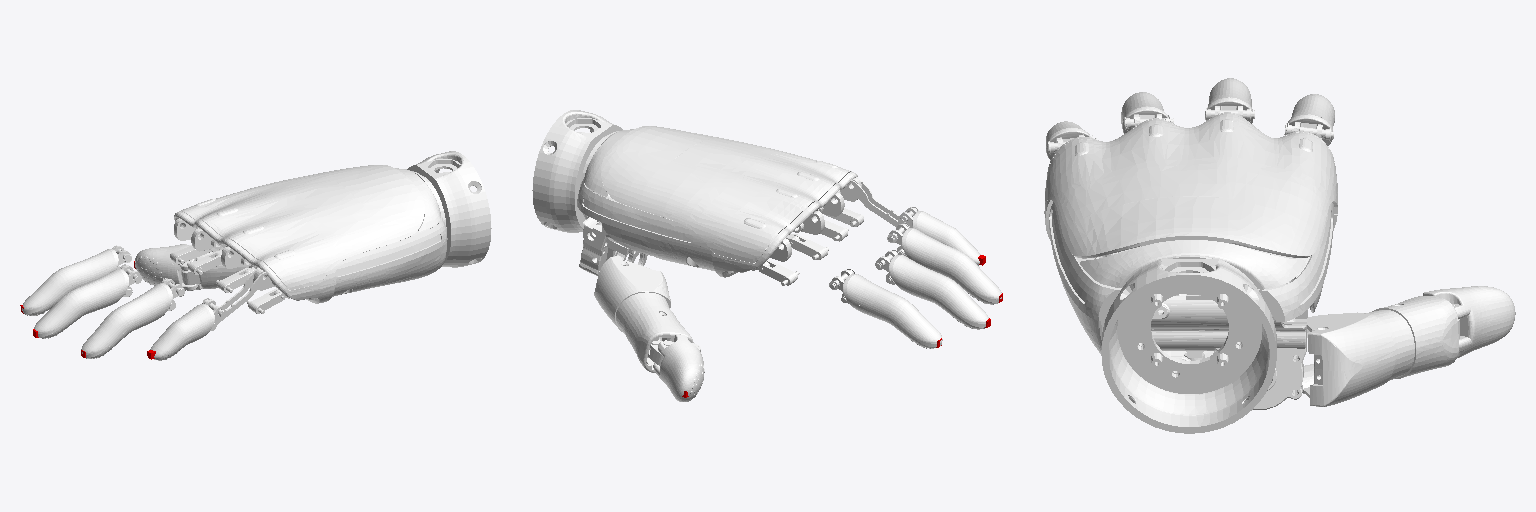
--- Render facts (derived) ---
The picture shows the robot from 3 angles, left to right: view 1: azimuth 30°, elevation 25°; view 2: azimuth 150°, elevation 25°; view 3: azimuth 270°, elevation 25°; orthographic projection.
Robot: rohand_left — 31 links, 30 joints (1 revolute, 19 continuous, 5 prismatic, 5 fixed); root link base_link; default pose: all joints at 0.
Links seen in each view (by area): view 1: base_link, mf_distal_link, rf_distal_link, if_distal_link, lf_distal_link, th_distal_link, th_proximal_link, lf_connecting_link; view 2: base_link, th_proximal_link, mf_distal_link, if_distal_link, rf_distal_link, th_distal_link, lf_distal_link, lf_connecting_link, mf_slider_abpart_link, if_slider_abpart_link; view 3: base_link, th_proximal_link, th_distal_link, if_distal_link, mf_distal_link, rf_distal_link, lf_distal_link.
Boxes of the visible links, x1,y1,x2,y2 form: base_link: (174, 151, 491, 303); mf_distal_link: (34, 264, 141, 338); rf_distal_link: (81, 278, 184, 358); if_distal_link: (22, 245, 131, 315); lf_distal_link: (150, 298, 226, 360); th_distal_link: (135, 244, 201, 290); th_proximal_link: (181, 252, 245, 288); lf_connecting_link: (214, 268, 268, 324); base_link: (532, 110, 861, 277); th_proximal_link: (594, 256, 693, 372); mf_distal_link: (875, 250, 988, 329); if_distal_link: (829, 269, 942, 348); rf_distal_link: (887, 222, 1001, 304); th_distal_link: (653, 334, 704, 401); lf_distal_link: (898, 207, 980, 265); lf_connecting_link: (846, 177, 900, 227); mf_slider_abpart_link: (786, 234, 828, 259); if_slider_abpart_link: (752, 260, 799, 285); base_link: (1044, 112, 1337, 433); th_proximal_link: (1302, 296, 1458, 406); th_distal_link: (1423, 286, 1515, 357); if_distal_link: (1284, 94, 1334, 145); mf_distal_link: (1205, 78, 1254, 123); rf_distal_link: (1121, 92, 1173, 133); lf_distal_link: (1046, 121, 1096, 160).
Bounding box of the posed robot: 0.2043 × 0.1314 × 0.0696 m (x, y, z).
Meshes: 26 distinct files referenced, 14 mesh visuals loaded (14 binary STL); not drawn: 12 (reference not matched to a file when rendering).

robot.urdf — rohand_left:
<?xml version="1.0" encoding="utf-8"?>
<!-- This URDF was automatically created by SolidWorks to URDF Exporter! Originally created by Stephen Brawner ([email redacted]) 
     Commit Version: 1.6.0-4-g7f85cfe  Build Version: 1.6.7995.38578
     For more information, please see http://wiki.ros.org/sw_urdf_exporter -->
<robot
  name="rohand_left">
  <link
    name="base_link">
    <inertial>
      <origin
        xyz="-0.0600175992226992 0.00173674758946424 0.003647460158999"
        rpy="0 0 0" />
      <mass
        value="0.0559618850523164" />
      <inertia
        ixx="2.50232879484508E-05"
        ixy="1.21179219483759E-06"
        ixz="1.3120954628882E-06"
        iyy="3.35110967631875E-05"
        iyz="4.46372025543979E-07"
        izz="5.16602242361882E-05" />
    </inertial>
    <visual>
      <origin
        xyz="0 0 0"
        rpy="0 0 0" />
      <geometry>
        <mesh
          filename="meshes_l/base_link.STL" />
      </geometry>
      <material
        name="">
        <color
          rgba="1 1 1 1" />
      </material>
    </visual>
    <collision>
      <origin
        xyz="0 0 0"
        rpy="0 0 0" />
      <geometry>
        <mesh
          filename="meshes_l/base_link.STL" />
      </geometry>
    </collision>
  </link>
  <link
    name="if_slider_link">
    <inertial>
      <origin
        xyz="-0.013831882124786 0.00115456036788866 1.1863450844439E-06"
        rpy="0 0 0" />
      <mass
        value="0.00048911221771827" />
      <inertia
        ixx="4.60387241005875E-09"
        ixy="2.8127898863501E-09"
        ixz="-3.18026655344593E-12"
        iyy="3.82302567697763E-08"
        iyz="7.17688117200499E-11"
        izz="3.92692763677803E-08" />
    </inertial>
    <visual>
      <origin
        xyz="0 0 0"
        rpy="0 0 0" />
      <geometry>
        <mesh
          filename="meshes_l/if_slider_link.STL" />
      </geometry>
      <material
        name="">
        <color
          rgba="1 1 1 1" />
      </material>
    </visual>
    <collision>
      <origin
        xyz="0 0 0"
        rpy="0 0 0" />
      <geometry>
        <mesh
          filename="meshes_l/if_slider_link.STL" />
      </geometry>
    </collision>
  </link>
  <joint
    name="if_slider_link"
    type="prismatic">
    <origin
      xyz="-0.074396 0.026655 -0.0059032"
      rpy="0 0 0" />
    <parent
      link="base_link" />
    <child
      link="if_slider_link" />
    <axis
      xyz="0.99655 -0.083049 0" />
    <limit
      lower="0"
      upper="0.019"
      effort="0"
      velocity="0" />
  </joint>
  <link
    name="if_slider_abpart_link">
    <inertial>
      <origin
        xyz="-0.0107864188255613 -0.00263940611058044 -0.00013913226482987"
        rpy="0 0 0" />
      <mass
        value="0.000419595822746572" />
      <inertia
        ixx="1.75917796784222E-09"
        ixy="2.74325143413962E-10"
        ixz="-6.61499697224064E-10"
        iyy="5.7335166061789E-09"
        iyz="9.56844870518539E-11"
        izz="6.20984539277726E-09" />
    </inertial>
    <visual>
      <origin
        xyz="0 0 0"
        rpy="0 0 0" />
      <geometry>
        <mesh
          filename="meshes_l/if_slider_abpart_link.STL" />
      </geometry>
      <material
        name="">
        <color
          rgba="1 1 1 1" />
      </material>
    </visual>
    <collision>
      <origin
        xyz="0 0 0"
        rpy="0 0 0" />
      <geometry>
        <mesh
          filename="meshes_l/if_slider_abpart_link.STL" />
      </geometry>
    </collision>
  </link>
  <joint
    name="if_slider_abpart_link"
    type="continuous">
    <origin
      xyz="-0.02861 0.0058839 -0.00030477"
      rpy="0 0 0" />
    <parent
      link="if_slider_link" />
    <child
      link="if_slider_abpart_link" />
    <axis
      xyz="0.082734 0.99276 -0.087135" />
  </joint>
  <link
    name="if_proximal_link">
    <inertial>
      <origin
        xyz="-0.0180401934810981 -0.00594318681409531 -0.00214940799795962"
        rpy="0 0 0" />
      <mass
        value="0.00154987032874225" />
      <inertia
        ixx="6.20379278686707E-08"
        ixy="7.89401144100231E-09"
        ixz="2.15078751193785E-09"
        iyy="1.54247144894286E-07"
        iyz="1.11019132631612E-09"
        izz="1.69493178080606E-07" />
    </inertial>
    <visual>
      <origin
        xyz="0 0 0"
        rpy="0 0 0" />
      <geometry>
        <mesh
          filename="meshes_l/if_proximal_link.STL" />
      </geometry>
      <material
        name="">
        <color
          rgba="1 1 1 1" />
      </material>
    </visual>
    <collision>
      <origin
        xyz="0 0 0"
        rpy="0 0 0" />
      <geometry>
        <mesh
          filename="meshes_l/if_proximal_link.STL" />
      </geometry>
    </collision>
  </link>
  <joint
    name="if_proximal_link"
    type="continuous">
    <origin
      xyz="-0.11211 0.037738 0.0020371"
      rpy="0 0 0" />
    <parent
      link="base_link" />
    <child
      link="if_proximal_link" />
    <axis
      xyz="0.082428 0.99278 -0.087177" />
    <mimic joint="if_slider_link" multiplier="-75.052450" offset="-0.055446" />
  </joint>
  <link
    name="if_distal_link">
    <inertial>
      <origin
        xyz="-0.0242417824734568 -0.00576634331785811 -0.00601095840966076"
        rpy="0 0 0" />
      <mass
        value="0.0042269383122795" />
      <inertia
        ixx="9.82682026496381E-08"
        ixy="2.86098057670537E-08"
        ixz="-1.10777302806872E-07"
        iyy="5.59160651416525E-07"
        iyz="7.3813015969809E-09"
        izz="5.40423175644971E-07" />
    </inertial>
    <visual>
      <origin
        xyz="0 0 0"
        rpy="0 0 0" />
      <geometry>
        <mesh
          filename="meshes_l/if_distal_link.STL" />
      </geometry>
      <material
        name="">
        <color
          rgba="1 1 1 1" />
      </material>
    </visual>
    <collision>
      <origin
        xyz="0 0 0"
        rpy="0 0 0" />
      <geometry>
        <mesh
          filename="meshes_l/if_distal_link.STL" />
      </geometry>
    </collision>
  </link>
  <joint
    name="if_distal_link"
    type="continuous">
    <origin
      xyz="-0.035776 0.0028401 -0.0014841"
      rpy="0 0 0" />
    <parent
      link="if_proximal_link" />
    <child
      link="if_distal_link" />
    <axis
      xyz="0.082428 0.99278 -0.087177" />
    <mimic joint="if_proximal_link" multiplier="1.138285" offset="-0.034824" />
  </joint>
  <link name="if_tip_link">
    <inertial>
      <mass value="0.001" />
      <inertia ixx="1e-6" ixy="0" ixz="0" iyy="1e-6" iyz="0" izz="1e-6" />
    </inertial>
    <visual>
      <geometry>
        <box size="0.003 0.003 0.003"/>
      </geometry>
      <material name="tip_color">
        <color rgba="1 0 0 1"/>
      </material>
    </visual>
  </link>
  <joint name="if_tip_joint" type="fixed">
    <parent link="if_distal_link" />
    <child link="if_tip_link" />
    <origin xyz="-0.047 -0.004 -0.013" rpy="0 0 0" />
  </joint>
  <link
    name="if_connecting_link">
    <inertial>
      <origin
        xyz="-0.0154529830298678 -0.00300880066164064 -0.00700719055867323"
        rpy="0 0 0" />
      <mass
        value="0.000197692348310411" />
      <inertia
        ixx="4.07223389206408E-09"
        ixy="1.11280581546581E-09"
        ixz="-9.07369152604057E-09"
        iyy="2.70145409777339E-08"
        iyz="4.0263808141139E-10"
        izz="2.30774689922599E-08" />
    </inertial>
    <visual>
      <origin
        xyz="0 0 0"
        rpy="0 0 0" />
      <geometry>
        <mesh
          filename="meshes_l/if_connecting_link.STL" />
      </geometry>
      <material
        name="">
        <color
          rgba="1 1 1 1" />
      </material>
    </visual>
    <collision>
      <origin
        xyz="0 0 0"
        rpy="0 0 0" />
      <geometry>
        <mesh
          filename="meshes_l/if_connecting_link.STL" />
      </geometry>
    </collision>
  </link>
  <joint
    name="if_connecting_link"
    type="continuous">
    <origin
      xyz="-0.11976 0.03521 0.0067299"
      rpy="0 0 0" />
    <parent
      link="base_link" />
    <child
      link="if_connecting_link" />
    <axis
      xyz="0.082428 0.99278 -0.087177" />
  </joint>
  <link
    name="mf_slider_link">
    <inertial>
      <origin
        xyz="-0.013878747077534 0.000185328089726128 8.622740372069E-08"
        rpy="0 0 0" />
      <mass
        value="0.000489112305392741" />
      <inertia
        ixx="4.3759626088488E-09"
        ixy="4.42668858430006E-10"
        ixz="-1.30309167879349E-11"
        iyy="3.84519195282787E-08"
        iyz="4.98468697390903E-13"
        izz="3.92755372638914E-08" />
    </inertial>
    <visual>
      <origin
        xyz="0 0 0"
        rpy="0 0 0" />
      <geometry>
        <mesh
          filename="meshes_l/mf_slider_link.STL" />
      </geometry>
      <material
        name="">
        <color
          rgba="1 1 1 1" />
      </material>
    </visual>
    <collision>
      <origin
        xyz="0 0 0"
        rpy="0 0 0" />
      <geometry>
        <mesh
          filename="meshes_l/mf_slider_link.STL" />
      </geometry>
    </collision>
  </link>
  <joint
    name="mf_slider_link"
    type="prismatic">
    <origin
      xyz="-0.076974 0.010077 -0.0016353"
      rpy="0 0 0" />
    <parent
      link="base_link" />
    <child
      link="mf_slider_link" />
    <axis
      xyz="0.99991 -0.013228 0.00010039" />
    <limit
      lower="0"
      upper="0.019"
      effort="0"
      velocity="0" />
  </joint>
  <link
    name="mf_slider_abpart_link">
    <inertial>
      <origin
        xyz="-0.0105596379857566 -0.00336124088471218 -0.000727211243021133"
        rpy="0 0 0" />
      <mass
        value="0.000419595848489683" />
      <inertia
        ixx="1.78090578752483E-09"
        ixy="5.23866893151899E-11"
        ixz="-7.88313295390851E-10"
        iyy="5.74728451250454E-09"
        iyz="1.04756066269533E-11"
        izz="6.17435090190752E-09" />
    </inertial>
    <visual>
      <origin
        xyz="0 0 0"
        rpy="0 0 0" />
      <geometry>
        <mesh
          filename="meshes_l/mf_slider_abpart_link.STL" />
      </geometry>
      <material
        name="">
        <color
          rgba="1 1 1 1" />
      </material>
    </visual>
    <collision>
      <origin
        xyz="0 0 0"
        rpy="0 0 0" />
      <geometry>
        <mesh
          filename="meshes_l/mf_slider_abpart_link.STL" />
      </geometry>
    </collision>
  </link>
  <joint
    name="mf_slider_abpart_link"
    type="continuous">
    <origin
      xyz="-0.028951 0.0038841 0"
      rpy="0 0 0" />
    <parent
      link="mf_slider_link" />
    <child
      link="mf_slider_abpart_link" />
    <axis
      xyz="0.013228 0.99991 -7.2594E-05" />
  </joint>
  <link
    name="mf_proximal_link">
    <inertial>
      <origin
        xyz="-0.0199797334891479 -0.00693582390555644 -0.00446806914321724"
        rpy="0 0 0" />
      <mass
        value="0.00189508780970619" />
      <inertia
        ixx="7.7805923733235E-08"
        ixy="2.0676177672704E-09"
        ixz="-1.00300119994739E-08"
        iyy="2.3404709814833E-07"
        iyz="1.32133235333923E-10"
        izz="2.46206545141109E-07" />
    </inertial>
    <visual>
      <origin
        xyz="0 0 0"
        rpy="0 0 0" />
      <geometry>
        <mesh
          filename="meshes_l/mf_proximal_link.STL" />
      </geometry>
      <material
        name="">
        <color
          rgba="1 1 1 1" />
      </material>
    </visual>
    <collision>
      <origin
        xyz="0 0 0"
        rpy="0 0 0" />
      <geometry>
        <mesh
          filename="meshes_l/mf_proximal_link.STL" />
      </geometry>
    </collision>
  </link>
  <joint
    name="mf_proximal_link"
    type="continuous">
    <origin
      xyz="-0.11587 0.017792 0.0069665"
      rpy="0 0 0" />
    <parent
      link="base_link" />
    <child
      link="mf_proximal_link" />
    <axis
      xyz="0.013244 0.99991 4.2699E-05" />
    <mimic joint="mf_slider_link" multiplier="-74.008909" offset="-0.065644" />
  </joint>
  <link
    name="mf_distal_link">
    <inertial>
      <origin
        xyz="-0.0237385164850207 -0.00688494079178079 -0.00679220850075163"
        rpy="0 0 0" />
      <mass
        value="0.0042269628029676" />
      <inertia
        ixx="9.80058679932351E-08"
        ixy="6.06231538286094E-09"
        ixz="-1.13827652906676E-07"
        iyy="5.60810951030143E-07"
        iyz="1.48885023943624E-09"
        izz="5.39048309363154E-07" />
    </inertial>
    <visual>
      <origin
        xyz="0 0 0"
        rpy="0 0 0" />
      <geometry>
        <mesh
          filename="meshes_l/mf_distal_link.STL" />
      </geometry>
      <material
        name="">
        <color
          rgba="1 1 1 1" />
      </material>
    </visual>
    <collision>
      <origin
        xyz="0 0 0"
        rpy="0 0 0" />
      <geometry>
        <mesh
          filename="meshes_l/mf_distal_link.STL" />
      </geometry>
    </collision>
  </link>
  <joint
    name="mf_distal_link"
    type="continuous">
    <origin
      xyz="-0.040851 0.00054126 -0.0035367"
      rpy="0 0 0" />
    <parent
      link="mf_proximal_link" />
    <child
      link="mf_distal_link" />
    <axis
      xyz="0.013244 0.99991 2.1055E-05" />
    <mimic joint="mf_proximal_link" multiplier="1.139937" offset="-0.033724" />
  </joint>
  <link name="mf_tip_link">
    <inertial>
      <mass value="0.001" />
      <inertia ixx="1e-6" ixy="0" ixz="0" iyy="1e-6" iyz="0" izz="1e-6" />
    </inertial>
    <visual>
      <geometry>
        <box size="0.003 0.003 0.003"/>
      </geometry>
      <material name="tip_color">
        <color rgba="1 0 0 1"/>
      </material>
    </visual>
  </link>
  <joint name="mf_tip_joint" type="fixed">
    <parent link="mf_distal_link" />
    <child link="mf_tip_link" />
    <origin xyz="-0.047 -0.007 -0.014" rpy="0 0 0" />
  </joint>
  <link
    name="mf_connecting_link">
    <inertial>
      <origin
        xyz="-0.0173259476733337 -0.00342060961323612 -0.00839513952079128"
        rpy="0 0 0" />
      <mass
        value="0.000216184518525667" />
      <inertia
        ixx="5.71913358376963E-09"
        ixy="4.34632649617872E-10"
        ixz="-1.31282895880665E-08"
        iyy="3.85063451062604E-08"
        iyz="1.74009446649164E-10"
        izz="3.28217930253539E-08" />
    </inertial>
    <visual>
      <origin
        xyz="0 0 0"
        rpy="0 0 0" />
      <geometry>
        <mesh
          filename="meshes_l/mf_connecting_link.STL" />
      </geometry>
      <material
        name="">
        <color
          rgba="1 1 1 1" />
      </material>
    </visual>
    <collision>
      <origin
        xyz="0 0 0"
        rpy="0 0 0" />
      <geometry>
        <mesh
          filename="meshes_l/mf_connecting_link.STL" />
      </geometry>
    </collision>
  </link>
  <joint
    name="mf_connecting_link"
    type="continuous">
    <origin
      xyz="-0.12334 0.014341 0.011366"
      rpy="0 0 0" />
    <parent
      link="base_link" />
    <child
      link="mf_connecting_link" />
    <axis
      xyz="0.013244 0.99991 2.1054E-05" />
  </joint>
  <link
    name="rf_slider_link">
    <inertial>
      <origin
        xyz="-0.0138578672671499 -0.00078324248832945 1.59405782883433E-07"
        rpy="0 0 0" />
      <mass
        value="0.000489112303078988" />
      <inertia
        ixx="4.48016318899327E-09"
        ixy="-1.93283010934183E-09"
        ixz="-1.28464378602607E-11"
        iyy="3.834771866864E-08"
        iyz="-3.94300598627811E-13"
        izz="3.92755371230416E-08" />
    </inertial>
    <visual>
      <origin
        xyz="0 0 0"
        rpy="0 0 0" />
      <geometry>
        <mesh
          filename="meshes_l/rf_slider_link.STL" />
      </geometry>
      <material
        name="">
        <color
          rgba="1 1 1 1" />
      </material>
    </visual>
    <collision>
      <origin
        xyz="0 0 0"
        rpy="0 0 0" />
      <geometry>
        <mesh
          filename="meshes_l/rf_slider_link.STL" />
      </geometry>
    </collision>
  </link>
  <joint
    name="rf_slider_link"
    type="prismatic">
    <origin
      xyz="-0.074498 -0.0072492 -0.0023801"
      rpy="0 0 0" />
    <parent
      link="base_link" />
    <child
      link="rf_slider_link" />
    <axis
      xyz="0.9984 0.056554 9.5082E-05" />
    <limit
      lower="0"
      upper="0.019"
      effort="0"
      velocity="0" />
  </joint>
  <link
    name="rf_slider_abpart_link">
    <inertial>
      <origin
        xyz="-0.0103066808663681 -0.00409004748705058 -0.000613628353270297"
        rpy="0 0 0" />
      <mass
        value="0.000419595841745906" />
      <inertia
        ixx="1.77645736028942E-09"
        ixy="-2.25058409313133E-10"
        ixz="-7.39578165961404E-10"
        iyy="5.73522260886412E-09"
        iyz="-4.18409260159825E-11"
        izz="6.19086108929486E-09" />
    </inertial>
    <visual>
      <origin
        xyz="0 0 0"
        rpy="0 0 0" />
      <geometry>
        <mesh
          filename="meshes_l/rf_slider_abpart_link.STL" />
      </geometry>
      <material
        name="">
        <color
          rgba="1 1 1 1" />
      </material>
    </visual>
    <collision>
      <origin
        xyz="0 0 0"
        rpy="0 0 0" />
      <geometry>
        <mesh
          filename="meshes_l/rf_slider_abpart_link.STL" />
      </geometry>
    </collision>
  </link>
  <joint
    name="rf_slider_abpart_link"
    type="continuous">
    <origin
      xyz="-0.029152 0.0018551 0"
      rpy="0 0 0" />
    <parent
      link="rf_slider_link" />
    <child
      link="rf_slider_abpart_link" />
    <axis
      xyz="-0.056554 0.9984 -7.942E-05" />
  </joint>
  <link
    name="rf_proximal_link">
    <inertial>
      <origin
        xyz="-0.0169549089835899 -0.00817221852533054 -0.00333737800773532"
        rpy="0 0 0" />
      <mass
        value="0.00154985371268108" />
      <inertia
        ixx="6.16430441306532E-08"
        ixy="-5.27625854931828E-09"
        ixz="-1.35085566211527E-09"
        iyy="1.54505752798055E-07"
        iyz="-7.80848576926748E-11"
        izz="1.69627005510225E-07" />
    </inertial>
    <visual>
      <origin
        xyz="0 0 0"
        rpy="0 0 0" />
      <geometry>
        <mesh
          filename="meshes_l/rf_proximal_link.STL" />
      </geometry>
      <material
        name="">
        <color
          rgba="1 1 1 1" />
      </material>
    </visual>
    <collision>
      <origin
        xyz="0 0 0"
        rpy="0 0 0" />
      <geometry>
        <mesh
          filename="meshes_l/rf_proximal_link.STL" />
      </geometry>
    </collision>
  </link>
  <joint
    name="rf_proximal_link"
    type="continuous">
    <origin
      xyz="-0.11364 -0.0022565 0.0062163"
      rpy="0 0 0" />
    <parent
      link="base_link" />
    <child
      link="rf_proximal_link" />
    <axis
      xyz="-0.05658 0.9984 2.102E-05" />
    <mimic joint="rf_slider_link" multiplier="-74.604806" offset="-0.051526" />
  </joint>
  <link
    name="rf_distal_link">
    <inertial>
      <origin
        xyz="-0.022696111452442 -0.00849649226724736 -0.00835478756750876"
        rpy="0 0 0" />
      <mass
        value="0.00422730983553646" />
      <inertia
        ixx="1.16496262714894E-07"
        ixy="-2.5261364839183E-08"
        ixz="-1.41993969994743E-07"
        iyy="5.59567957009536E-07"
        iyz="-8.07053877471632E-09"
        izz="5.22034079641838E-07" />
    </inertial>
    <visual>
      <origin
        xyz="0 0 0"
        rpy="0 0 0" />
      <geometry>
        <mesh
          filename="meshes_l/rf_distal_link.STL" />
      </geometry>
      <material
        name="">
        <color
          rgba="1 1 1 1" />
      </material>
    </visual>
    <collision>
      <origin
        xyz="0 0 0"
        rpy="0 0 0" />
      <geometry>
        <mesh
          filename="meshes_l/rf_distal_link.STL" />
      </geometry>
    </collision>
  </link>
  <joint
    name="rf_distal_link"
    type="continuous">
    <origin
      xyz="-0.035766 -0.0020268 -0.0026198"
      rpy="0 0 0" />
    <parent
      link="rf_proximal_link" />
    <child
      link="rf_distal_link" />
    <axis
      xyz="-0.05658 0.9984 2.102E-05" />
    <mimic joint="rf_proximal_link" multiplier="1.134612" offset="-0.033167" />
  </joint>
  <link name="rf_tip_link">
    <inertial>
      <mass value="0.001" />
      <inertia ixx="1e-6" ixy="0" ixz="0" iyy="1e-6" iyz="0" izz="1e-6" />
    </inertial>
    <visual>
      <geometry>
        <box size="0.003 0.003 0.003"/>
      </geometry>
      <material name="tip_color">
        <color rgba="1 0 0 1"/>
      </material>
    </visual>
  </link>
  <joint name="rf_tip_joint" type="fixed">
    <parent link="rf_distal_link" />
    <child link="rf_tip_link" />
    <origin xyz="-0.045 -0.01 -0.017" rpy="0 0 0" />
  </joint>
  <link
    name="rf_connecting_link">
    <inertial>
      <origin
        xyz="-0.0182151281756033 0.0164706758619828 -0.00574282817068492"
        rpy="0 0 0" />
      <mass
        value="0.000197692354337264" />
      <inertia
        ixx="4.92838052690555E-09"
        ixy="-1.25465921189233E-09"
        ixz="-9.87171474508207E-09"
        iyy="2.70004879799029E-08"
        iyz="-5.59333811535522E-10"
        izz="2.22353755729308E-08" />
    </inertial>
    <visual>
      <origin
        xyz="0 0 0"
        rpy="0 0 0" />
      <geometry>
        <mesh
          filename="meshes_l/rf_connecting_link.STL" />
      </geometry>
      <material
        name="">
        <color
          rgba="1 1 1 1" />
      </material>
    </visual>
    <collision>
      <origin
        xyz="0 0 0"
        rpy="0 0 0" />
      <geometry>
        <mesh
          filename="meshes_l/rf_connecting_link.STL" />
      </geometry>
    </collision>
  </link>
  <joint
    name="rf_connecting_link"
    type="continuous">
    <origin
      xyz="-0.11723 -0.027174 0.008365"
      rpy="0 0 0" />
    <parent
      link="base_link" />
    <child
      link="rf_connecting_link" />
    <axis
      xyz="-0.05658 0.9984 2.102E-05" />
  </joint>
  <link
    name="lf_slider_link">
    <inertial>
      <origin
        xyz="-0.0144167564876969 -0.00171205925869156 3.81352530457336E-07"
        rpy="0 0 0" />
      <mass
        value="0.000510662528391611" />
      <inertia
        ixx="4.9365491500063E-09"
        ixy="-3.99382130462206E-09"
        ixz="-3.82896929119076E-12"
        iyy="3.79994364556094E-08"
        iyz="-7.87026435487919E-11"
        izz="3.93595008041777E-08" />
    </inertial>
    <visual>
      <origin
        xyz="0 0 0"
        rpy="0 0 0" />
      <geometry>
        <mesh
          filename="meshes_l/lf_slider_link.STL" />
      </geometry>
      <material
        name="">
        <color
          rgba="1 1 1 1" />
      </material>
    </visual>
    <collision>
      <origin
        xyz="0 0 0"
        rpy="0 0 0" />
      <geometry>
        <mesh
          filename="meshes_l/lf_slider_link.STL" />
      </geometry>
    </collision>
  </link>
  <joint
    name="lf_slider_link"
    type="prismatic">
    <origin
      xyz="-0.070847 -0.024182 -0.0048997"
      rpy="0 0 0" />
    <parent
      link="base_link" />
    <child
      link="lf_slider_link" />
    <axis
      xyz="0.99301 0.11803 8.2704E-05" />
    <limit
      lower="0"
      upper="0.019"
      effort="0"
      velocity="0" />
  </joint>
  <link
    name="lf_slider_abpart_link">
    <inertial>
      <origin
        xyz="-0.0100358483607181 -0.00463982379624511 -0.00104236140669513"
        rpy="0 0 0" />
      <mass
        value="0.000419595826532552" />
      <inertia
        ixx="1.82121196852816E-09"
        ixy="-3.9802967870408E-10"
        ixz="-7.80769700533061E-10"
        iyy="5.71210051864852E-09"
        iyz="-1.29906442115816E-10"
        izz="6.16922773505282E-09" />
    </inertial>
    <visual>
      <origin
        xyz="0 0 0"
        rpy="0 0 0" />
      <geometry>
        <mesh
          filename="meshes_l/lf_slider_abpart_link.STL" />
      </geometry>
      <material
        name="">
        <color
          rgba="1 1 1 1" />
      </material>
    </visual>
    <collision>
      <origin
        xyz="0 0 0"
        rpy="0 0 0" />
      <geometry>
        <mesh
          filename="meshes_l/lf_slider_abpart_link.STL" />
      </geometry>
    </collision>
  </link>
  <joint
    name="lf_slider_abpart_link"
    type="continuous">
    <origin
      xyz="-0.029209 4.0116E-05 0.00030326"
      rpy="0 0 0" />
    <parent
      link="lf_slider_link" />
    <child
      link="lf_slider_abpart_link" />
    <axis
      xyz="-0.11759 0.98923 0.08715" />
  </joint>
  <link
    name="lf_proximal_link">
    <inertial>
      <origin
        xyz="-0.0146179038371213 -0.00865933449081624 -0.00404765240562847"
        rpy="0 0 0" />
      <mass
        value="0.00136661208486985" />
      <inertia
        ixx="5.65517835433433E-08"
        ixy="-6.43465965682621E-09"
        ixz="-2.86652645878912E-09"
        iyy="1.12186752570062E-07"
        iyz="-1.61029658148309E-09"
        izz="1.27246247373284E-07" />
    </inertial>
    <visual>
      <origin
        xyz="0 0 0"
        rpy="0 0 0" />
      <geometry>
        <mesh
          filename="meshes_l/lf_proximal_link.STL" />
      </geometry>
      <material
        name="">
        <color
          rgba="1 1 1 1" />
      </material>
    </visual>
    <collision>
      <origin
        xyz="0 0 0"
        rpy="0 0 0" />
      <geometry>
        <mesh
          filename="meshes_l/lf_proximal_link.STL" />
      </geometry>
    </collision>
  </link>
  <joint
    name="lf_proximal_link"
    type="continuous">
    <origin
      xyz="-0.11032 -0.022406 0.0042916"
      rpy="0 0 0" />
    <parent
      link="base_link" />
    <child
      link="lf_proximal_link" />
    <axis
      xyz="-0.11759 0.98923 0.087106" />
    <mimic joint="lf_slider_link" multiplier="-74.278679" offset="-0.049528" />
  </joint>
  <link
    name="lf_distal_link">
    <inertial>
      <origin
        xyz="-0.014370796499536 -0.008390245956126 -0.00657795990320131"
        rpy="0 0 0" />
      <mass
        value="0.00262042947413116" />
      <inertia
        ixx="5.14865241597797E-08"
        ixy="-8.72354900376063E-09"
        ixz="-3.78475585620367E-08"
        iyy="1.52166371803539E-07"
        iyz="-3.91942047531457E-09"
        izz="1.45327848752015E-07" />
    </inertial>
    <visual>
      <origin
        xyz="0 0 0"
        rpy="0 0 0" />
      <geometry>
        <mesh
          filename="meshes_l/lf_distal_link.STL" />
      </geometry>
      <material
        name="">
        <color
          rgba="1 1 1 1" />
      </material>
    </visual>
    <collision>
      <origin
        xyz="0 0 0"
        rpy="0 0 0" />
      <geometry>
        <mesh
          filename="meshes_l/lf_distal_link.STL" />
      </geometry>
    </collision>
  </link>
  <joint
    name="lf_distal_link"
    type="continuous">
    <origin
      xyz="-0.031562 -0.0034532 -0.003392"
      rpy="0 0 0" />
    <parent
      link="lf_proximal_link" />
    <child
      link="lf_distal_link" />
    <axis
      xyz="-0.11759 0.98923 0.087106" />
    <mimic joint="lf_proximal_link" multiplier="1.152366" offset="-0.067444" />
  </joint>
  <link name="lf_tip_link">
    <inertial>
      <mass value="0.001" />
      <inertia ixx="1e-6" ixy="0" ixz="0" iyy="1e-6" iyz="0" izz="1e-6" />
    </inertial>
    <visual>
      <geometry>
        <box size="0.003 0.003 0.003"/>
      </geometry>
      <material name="tip_color">
        <color rgba="1 0 0 1"/>
      </material>
    </visual>
  </link>
  <joint name="lf_tip_joint" type="fixed">
    <parent link="lf_distal_link" />
    <child link="lf_tip_link" />
    <origin xyz="-0.032 -0.01 -0.012" rpy="0 0 0" />
  </joint>
  <link
    name="lf_connecting_link">
    <inertial>
      <origin
        xyz="-0.0121624488477445 -0.00439577388851597 -0.00839995412997622"
        rpy="0 0 0" />
      <mass
        value="0.000176980932045691" />
      <inertia
        ixx="4.93706927346499E-09"
        ixy="-1.08018597686527E-09"
        ixz="-8.19110691260071E-09"
        iyy="2.00115768299624E-08"
        iyz="-5.47674876971474E-10"
        izz="1.52537402638674E-08" />
    </inertial>
    <visual>
      <origin
        xyz="0 0 0"
        rpy="0 0 0" />
      <geometry>
        <mesh
          filename="meshes_l/lf_connecting_link.STL" />
      </geometry>
      <material
        name="">
        <color
          rgba="1 1 1 1" />
      </material>
    </visual>
    <collision>
      <origin
        xyz="0 0 0"
        rpy="0 0 0" />
      <geometry>
        <mesh
          filename="meshes_l/lf_connecting_link.STL" />
      </geometry>
    </collision>
  </link>
  <joint
    name="lf_connecting_link"
    type="continuous">
    <origin
      xyz="-0.11723 -0.027174 0.008365"
      rpy="0 0 0" />
    <parent
      link="base_link" />
    <child
      link="lf_connecting_link" />
    <axis
      xyz="-0.11759 0.98924 0.087085" />
  </joint>
  <link
    name="th_root_link">
    <inertial>
      <origin
        xyz="-0.0182055985206398 0.00620277969837987 -0.00602504691008154"
        rpy="0 0 0" />
      <mass
        value="0.00217782401907458" />
      <inertia
        ixx="1.92048266024776E-07"
        ixy="8.02008085705929E-08"
        ixz="-1.58292817167637E-08"
        iyy="1.97385210109919E-07"
        iyz="2.8437183719772E-08"
        izz="2.25369870005598E-07" />
    </inertial>
    <visual>
      <origin
        xyz="0 0 0"
        rpy="0 0 0" />
      <geometry>
        <mesh
          filename="meshes_l/th_root_link.STL" />
      </geometry>
      <material
        name="">
        <color
          rgba="1 1 1 1" />
      </material>
    </visual>
    <collision>
      <origin
        xyz="0 0 0"
        rpy="0 0 0" />
      <geometry>
        <mesh
          filename="meshes_l/th_root_link.STL" />
      </geometry>
    </collision>
  </link>
  <joint
    name="th_root_link"
    type="revolute">
    <origin
      xyz="-0.024656 0.019554 -0.018266"
      rpy="0 0 0" />
    <parent
      link="base_link" />
    <child
      link="th_root_link" />
    <axis
      xyz="-0.97616 0.01293 -0.21667" />
    <limit
      lower="0"
      upper="1.57"
      effort="0"
      velocity="0" />
  </joint>
  <link
    name="th_proximal_link">
    <inertial>
      <origin
        xyz="-0.00770018684827107 0.011788302524247 -0.0170644760229541"
        rpy="0 0 0" />
      <mass
        value="0.00501318922026079" />
      <inertia
        ixx="2.07793414915373E-06"
        ixy="-3.98829361861836E-12"
        ixz="3.13964194356435E-13"
        iyy="1.50672511173197E-06"
        iyz="6.80394768150803E-07"
        izz="6.75564984341832E-07" />
    </inertial>
    <visual>
      <origin
        xyz="0 0 0"
        rpy="0 0 0" />
      <geometry>
        <mesh
          filename="meshes_l/th_proximal_link.STL" />
      </geometry>
      <material
        name="">
        <color
          rgba="1 1 1 1" />
      </material>
    </visual>
    <collision>
      <origin
        xyz="0 0 0"
        rpy="0 0 0" />
      <geometry>
        <mesh
          filename="meshes_l/th_proximal_link.STL" />
      </geometry>
    </collision>
  </link>
  <joint
    name="th_proximal_link"
    type="continuous">
    <origin
      xyz="-0.025097 0.021667 -0.015581"
      rpy="0.14303 1.3497 0.14655" />
    <parent
      link="th_root_link" />
    <child
      link="th_proximal_link" />
    <axis
      xyz="1 0 0" />
    <mimic joint="th_slider_link" multiplier="-70.405870" offset="0.020045" />
  </joint>
  <link
    name="th_slider_link">
    <inertial>
      <origin
        xyz="-0.0119352170255541 0.00825053452681332 -0.00238381819650774"
        rpy="0 0 0" />
      <mass
        value="0.000966918573679238" />
      <inertia
        ixx="4.78147534251827E-08"
        ixy="2.60369555753437E-08"
        ixz="-1.95859134260407E-09"
        iyy="5.57308268866282E-08"
        iyz="5.63509107044141E-09"
        izz="6.02170914313473E-08" />
    </inertial>
    <visual>
      <origin
        xyz="0 0 0"
        rpy="0 0 0" />
      <geometry>
        <mesh
          filename="meshes_l/th_slider_link.STL" />
      </geometry>
      <material
        name="">
        <color
          rgba="1 1 1 1" />
      </material>
    </visual>
    <collision>
      <origin
        xyz="0 0 0"
        rpy="0 0 0" />
      <geometry>
        <mesh
          filename="meshes_l/th_slider_link.STL" />
      </geometry>
    </collision>
  </link>
  <joint
    name="th_slider_link"
    type="prismatic">
    <origin
      xyz="-0.0077 0.0027693 -0.00023667"
      rpy="0 -1.352 -0.032034" />
    <parent
      link="th_proximal_link" />
    <child
      link="th_slider_link" />
    <axis
      xyz="-0.76198 0.63028 -0.14877" />
    <limit
      lower="0"
      upper="0.01"
      effort="0"
      velocity="0" />
  </joint>
  <link
    name="th_connecting_link">
    <inertial>
      <origin
        xyz="-0.00506957828509727 0.0022529909165182 0.00365191633381741"
        rpy="0 0 0" />
      <mass
        value="0.000334843777726033" />
      <inertia
        ixx="2.97269012068611E-09"
        ixy="1.34809608463028E-09"
        ixz="-4.23656553440134E-10"
        iyy="5.01992883871934E-09"
        iyz="2.98232658947671E-10"
        izz="4.99074064887975E-09" />
    </inertial>
    <visual>
      <origin
        xyz="0 0 0"
        rpy="0 0 0" />
      <geometry>
        <mesh
          filename="meshes_l/th_connecting_link.STL" />
      </geometry>
      <material
        name="">
        <color
          rgba="1 1 1 1" />
      </material>
    </visual>
    <collision>
      <origin
        xyz="0 0 0"
        rpy="0 0 0" />
      <geometry>
        <mesh
          filename="meshes_l/th_connecting_link.STL" />
      </geometry>
    </collision>
  </link>
  <joint
    name="th_connecting_link"
    type="continuous">
    <origin
      xyz="-0.027697 0.024088 -0.010084"
      rpy="0 0 0" />
    <parent
      link="th_slider_link" />
    <child
      link="th_connecting_link" />
    <axis
      xyz="0.21699 0.032029 -0.97565" />
  </joint>
  <link
    name="th_distal_link">
    <inertial>
      <origin
        xyz="-0.00470321656966432 0.0108131649563331 0.00709251414154711"
        rpy="0 0 0" />
      <mass
        value="0.00509494222453049" />
      <inertia
        ixx="2.72112772656721E-07"
        ixy="5.86600483065481E-08"
        ixz="8.76444627770057E-09"
        iyy="2.01886474111303E-07"
        iyz="1.17477856405696E-08"
        izz="2.43694502794788E-07" />
    </inertial>
    <visual>
      <origin
        xyz="0 0 0"
        rpy="0 0 0" />
      <geometry>
        <mesh
          filename="meshes_l/th_distal_link.STL" />
      </geometry>
      <material
        name="">
        <color
          rgba="1 1 1 1" />
      </material>
    </visual>
    <collision>
      <origin
        xyz="0 0 0"
        rpy="0 0 0" />
      <geometry>
        <mesh
          filename="meshes_l/th_distal_link.STL" />
      </geometry>
    </collision>
  </link>
  <joint
    name="th_distal_link"
    type="continuous">
    <origin
      xyz="-0.00010351 0.023735 -0.046849"
      rpy="0 -1.352 -0.032034" />
    <parent
      link="th_proximal_link" />
    <child
      link="th_distal_link" />
    <axis
      xyz="0.21698 0.032029 -0.97565" />
    <mimic joint="th_proximal_link" multiplier="1.229686" offset="-0.037509" />
  </joint>
  <link name="th_tip_link">
    <inertial>
      <mass value="0.001" />
      <inertia ixx="1e-6" ixy="0" ixz="0" iyy="1e-6" iyz="0" izz="1e-6" />
    </inertial>
    <visual>
      <geometry>
        <box size="0.003 0.003 0.003"/>
      </geometry>
      <material name="tip_color">
        <color rgba="1 0 0 1"/>
      </material>
    </visual>
  </link>
  <joint name="th_tip_joint" type="fixed">
    <parent link="th_distal_link" />
    <child link="th_tip_link" />
    <origin xyz="-0.013 0.023 0.005" rpy="0 0 0" />
  </joint>
</robot>
